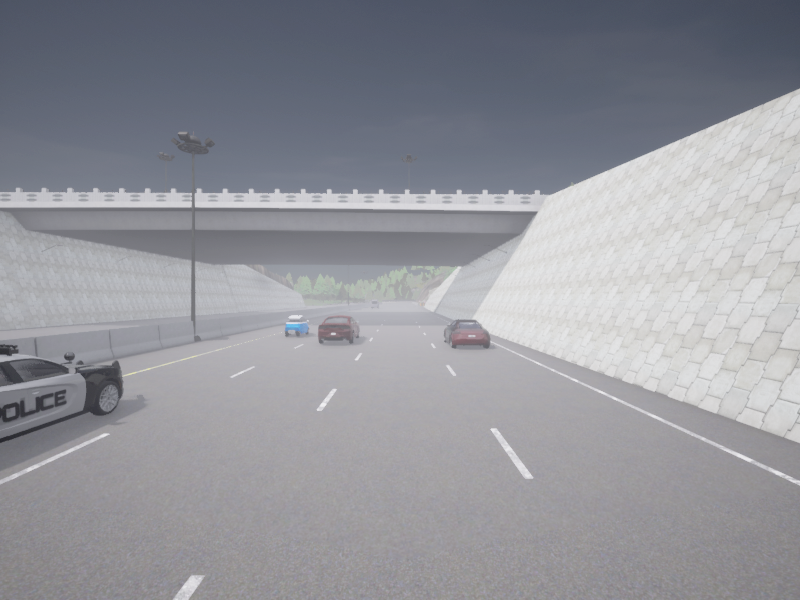vehicle: (0, 344, 123, 442), (444, 319, 489, 347), (318, 315, 358, 343), (285, 315, 308, 336), (371, 300, 379, 308)
